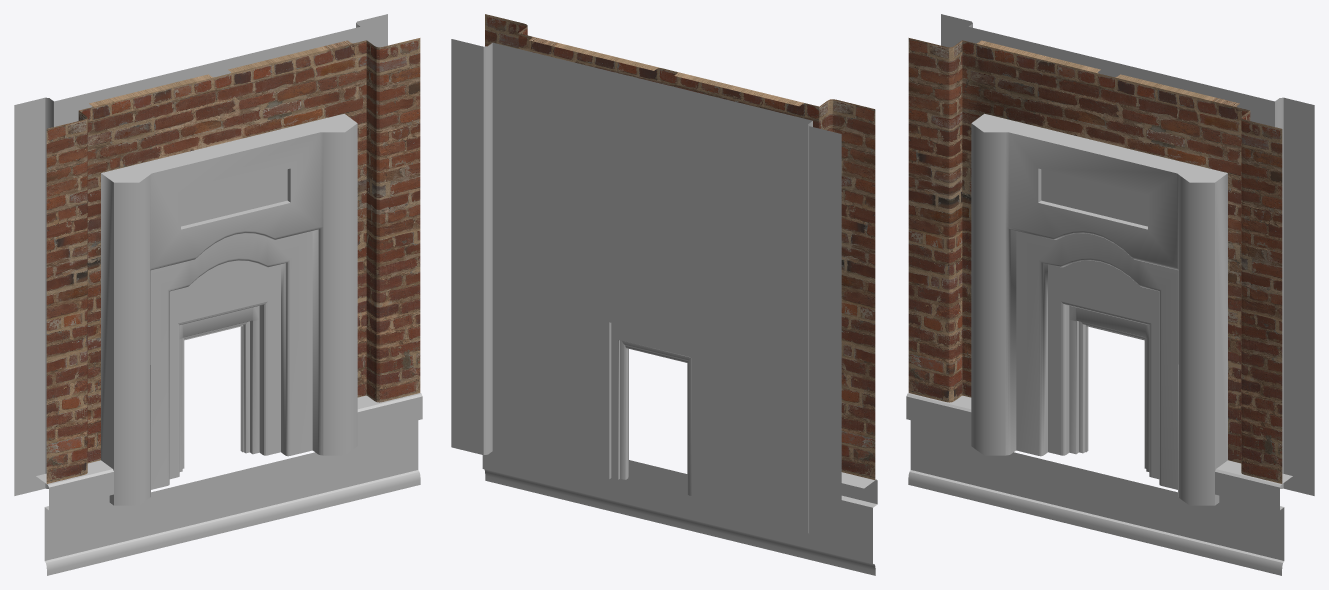
File: SM_Wall_Entrance_Wall_Entrance.fbx
3 renders of one model, left to right at view 1: azimuth 30°, elevation 25°; view 2: azimuth 150°, elevation 25°; view 3: azimuth 330°, elevation 25°, orthographic. The views are drawn at different scales.
Visible parts, largest first — view 1: SM_Wall_Entrance_Wall_Entrance; view 2: SM_Wall_Entrance_Wall_Entrance; view 3: SM_Wall_Entrance_Wall_Entrance.
Boxes of the visible parts, x1,y1,x2,y2 form: SM_Wall_Entrance_Wall_Entrance: (14,14,422,575); SM_Wall_Entrance_Wall_Entrance: (451,14,877,575); SM_Wall_Entrance_Wall_Entrance: (906,14,1314,575).
Size of the model in its own units: 700 by 133 by 800.
